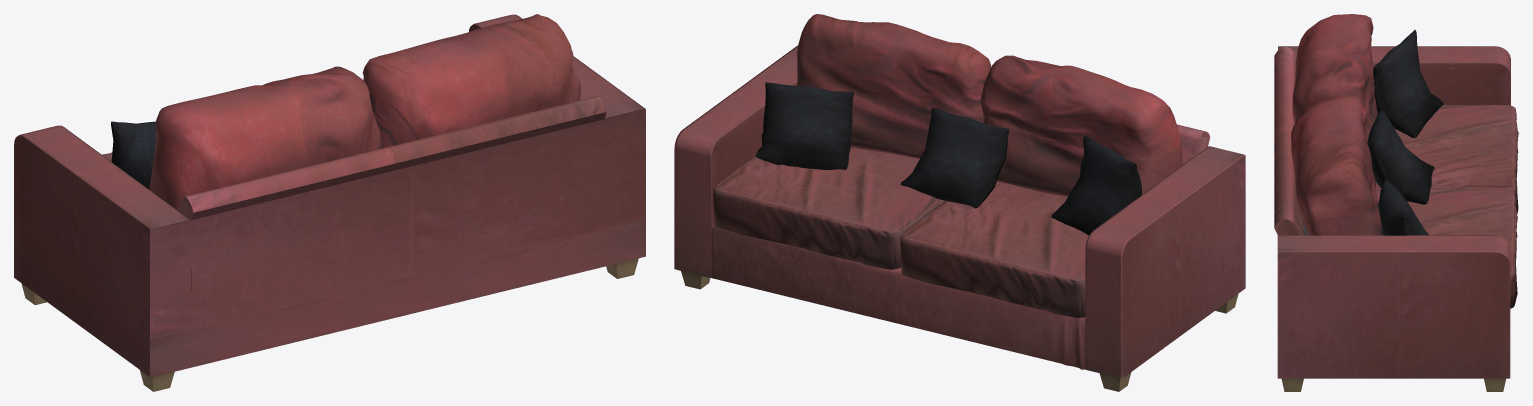
The model's file is Sofa.fbx.
3 views of the same model, side by side, from view 1: azimuth 30°, elevation 25°; view 2: azimuth 150°, elevation 25°; view 3: azimuth 270°, elevation 25° (orthographic). The views are drawn at different scales.
Visible parts, largest first — view 1: Arms, Cushion_Right, Cushion_Left, Back, Cushion_C, Feet; view 2: Arms, Front, Cushion_Right, Seat_Cushion_Left, Cushion_Left, Seat_Cushion_Right, Cushion_A, Cushion_B, Cushion_C, Feet, Back; view 3: Arms, Cushion_Left, Seat_Cushion_Right, Cushion_Right, Seat_Cushion_Left, Cushion_C, Back, Cushion_B, Cushion_A, Feet.
Boxes of the visible parts, <box> form: Arms: <box>14,14,645,377</box>; Cushion_Right: <box>149,66,381,210</box>; Cushion_Left: <box>362,14,580,148</box>; Back: <box>178,96,606,219</box>; Cushion_C: <box>111,121,156,189</box>; Feet: <box>21,258,638,391</box>; Arms: <box>674,45,1245,378</box>; Front: <box>711,223,1085,369</box>; Cushion_Right: <box>980,55,1181,196</box>; Seat_Cushion_Left: <box>713,147,945,269</box>; Cushion_Left: <box>797,14,991,158</box>; Seat_Cushion_Right: <box>900,181,1088,317</box>; Cushion_A: <box>755,82,853,169</box>; Cushion_B: <box>900,108,1009,208</box>; Cushion_C: <box>1051,135,1141,235</box>; Feet: <box>681,271,1238,391</box>; Back: <box>1177,124,1210,165</box>; Arms: <box>1277,46,1510,378</box>; Cushion_Left: <box>1291,95,1382,235</box>; Seat_Cushion_Right: <box>1375,105,1518,214</box>; Cushion_Right: <box>1292,14,1378,142</box>; Seat_Cushion_Left: <box>1376,189,1517,308</box>; Cushion_C: <box>1373,30,1443,137</box>; Back: <box>1274,47,1308,235</box>; Cushion_B: <box>1367,109,1434,204</box>; Cushion_A: <box>1378,178,1428,235</box>; Feet: <box>1281,378,1505,391</box>.
Bounding box in the file's own units: 2.65 × 1.25 × 1.32.
